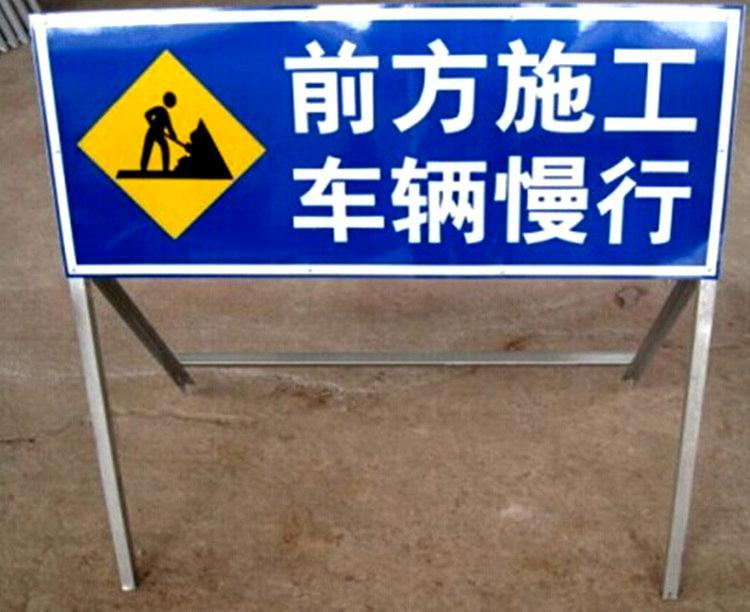sign: (39, 20, 715, 273)
